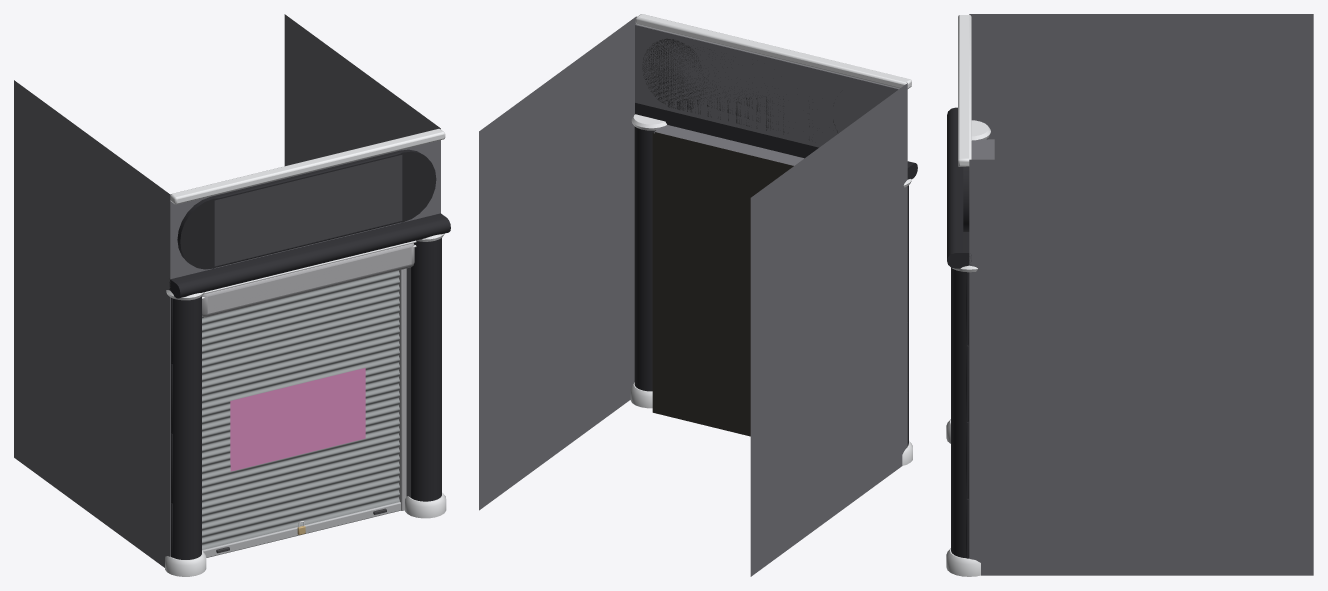
The model's file is retro_shuttered_3a.glb.
3 renders of one model, left to right at view 1: azimuth 30°, elevation 25°; view 2: azimuth 150°, elevation 25°; view 3: azimuth 270°, elevation 25°, orthographic. The views are drawn at different scales.
Parts seen in each view (by area): view 1: retro_shuttered_3a; view 2: retro_shuttered_3a; view 3: retro_shuttered_3a.
Boxes of the visible parts, x1,y1,x2,y2 form: retro_shuttered_3a: (14,14,450,576); retro_shuttered_3a: (479,14,917,576); retro_shuttered_3a: (946,14,1313,576).
Bounding box in the file's own units: 3.06 × 4 × 3.2.
